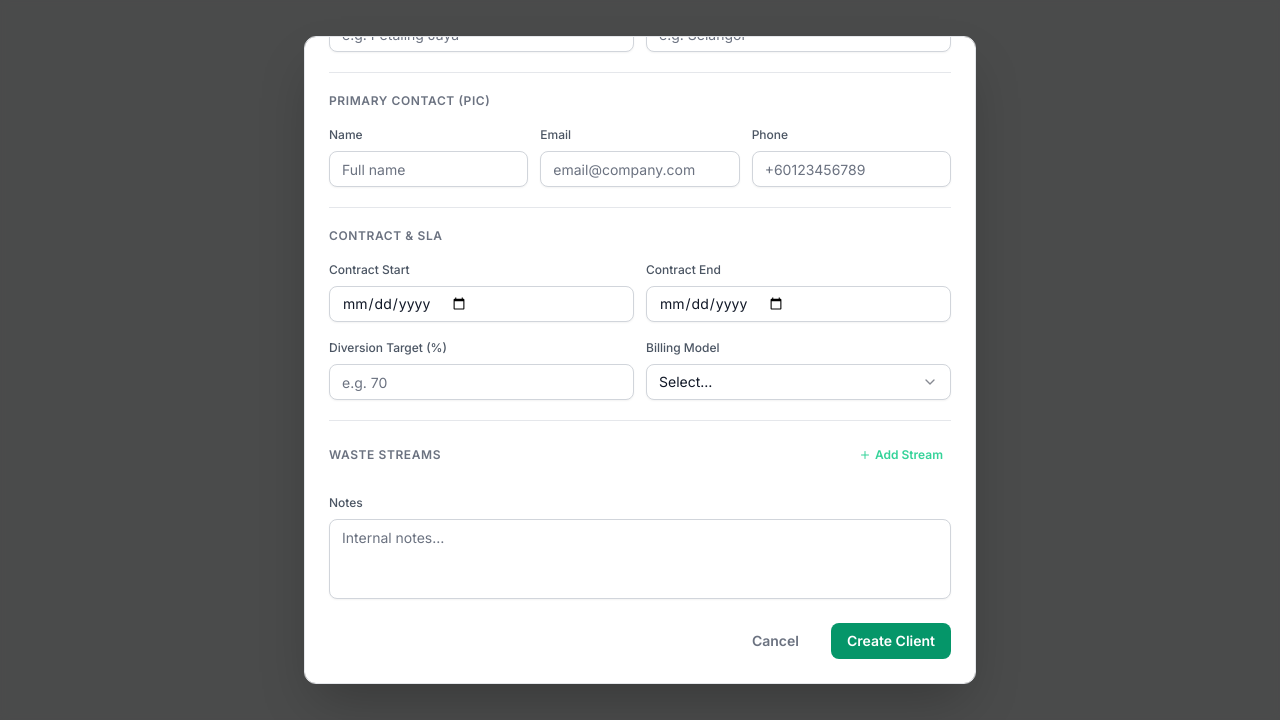
Test: ClientForm — Validation › shows error when company name is empty
(page scrolled)
Step 1. Click the button "Create Client" → (891, 641), box [831, 623, 951, 659]
(page scrolled)
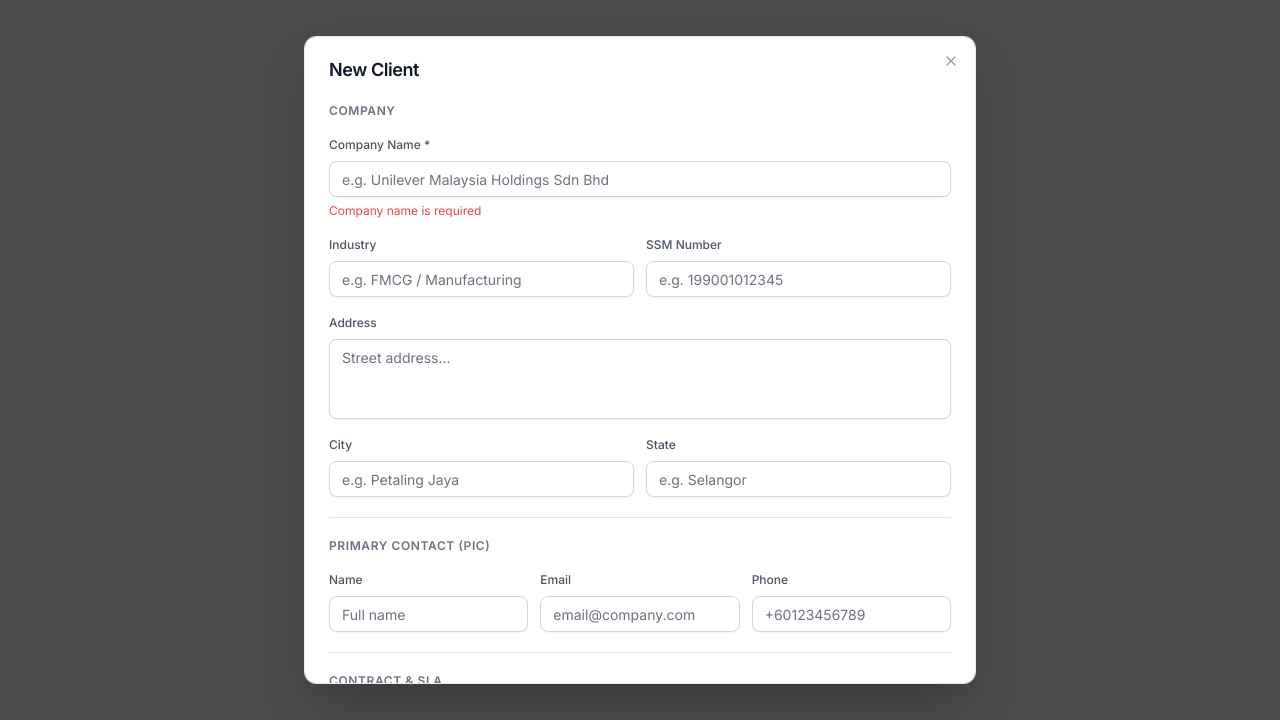
Expected: the text "Company name is required" is shown, [329, 203, 481, 218]
